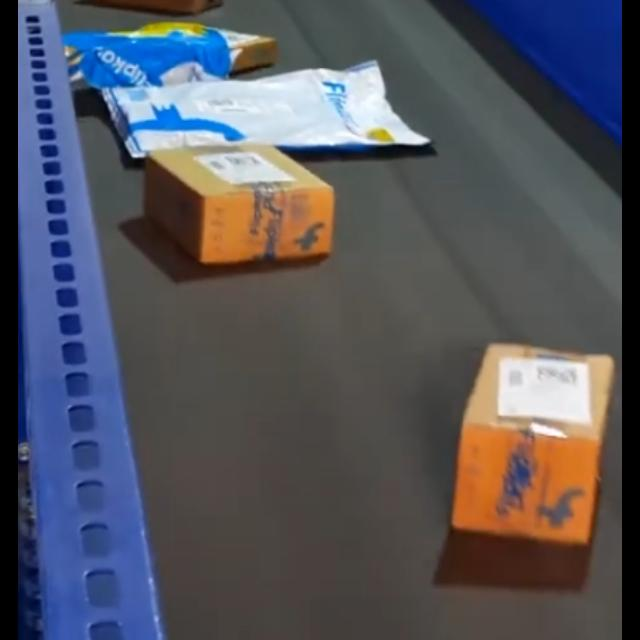box: (454, 338, 616, 542), (143, 141, 340, 267)
mailer: (106, 64, 430, 162), (76, 22, 232, 100)
